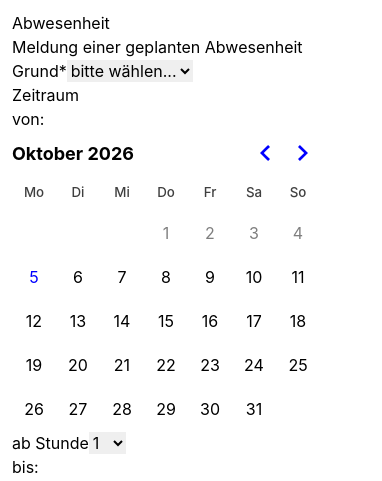
Test: StepOne - Absence Wizard Step 1 › Conditional Fields - Personal Reason › hides personal reason field for other reasons
Select "Privat" in the dropdown labelled "Grund*" at (130, 71), box top-left (67, 60), bottom-right (193, 82)
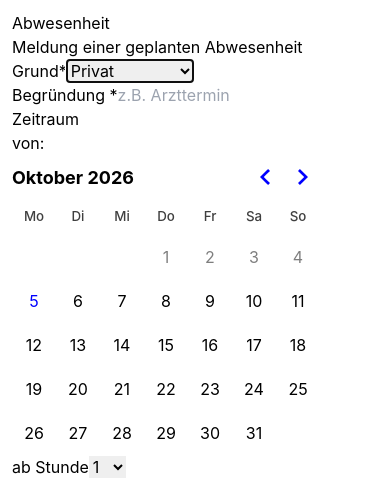
Result: the field labelled "Begründung *" is shown at top-left (118, 83), bottom-right (366, 107)
Select "Krank" in the dropdown labelled "Grund*" at (130, 71), box top-left (67, 60), bottom-right (193, 82)
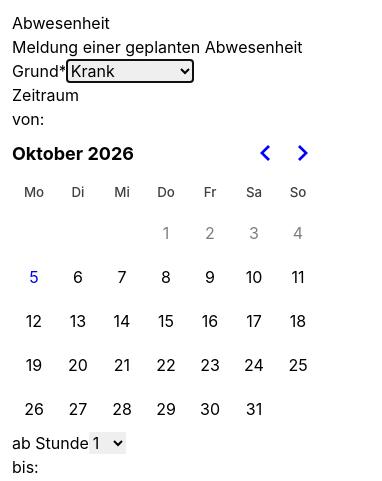
Result: the label labelled "Begründung" is gone
